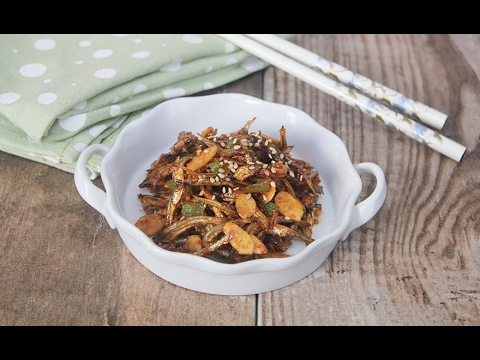myeolchibokk-eum: (127, 113, 325, 265)
